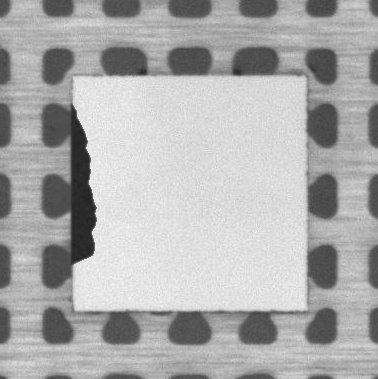DIE_BROKEN: (68, 101, 99, 267)
